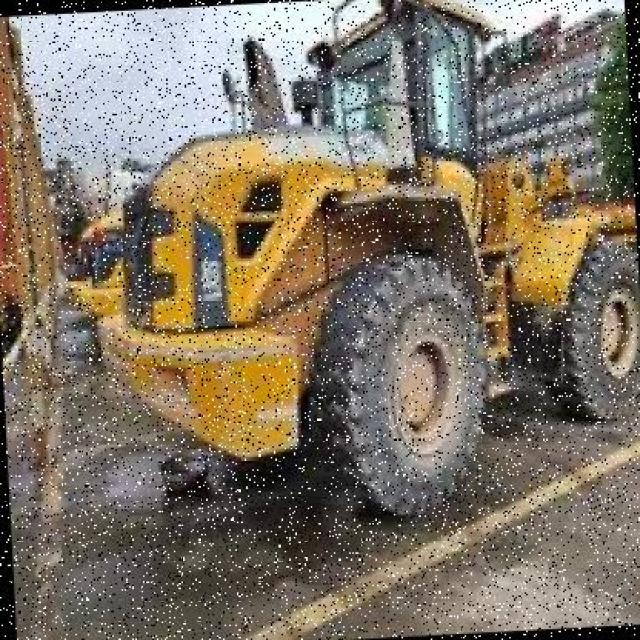buldozerpayloadergrader: (72, 0, 640, 534)
